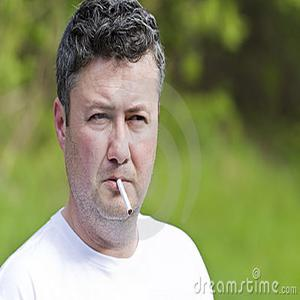cigarette: (116, 176, 135, 217)
